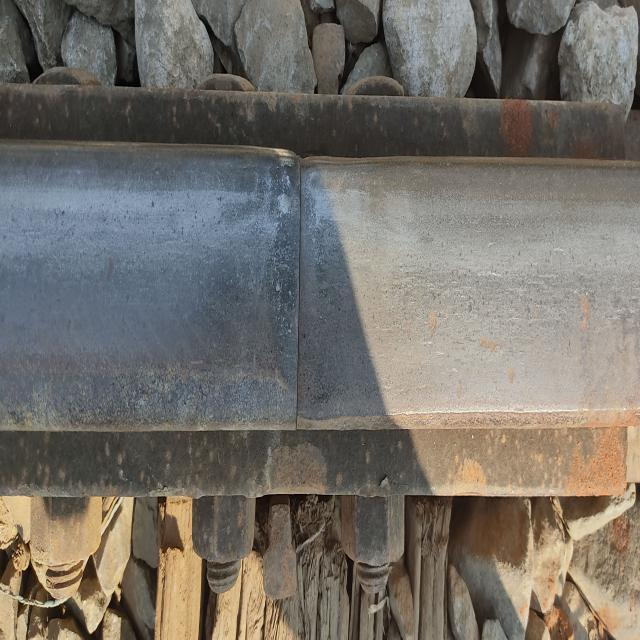Defective Joint: (1, 55, 635, 595)
